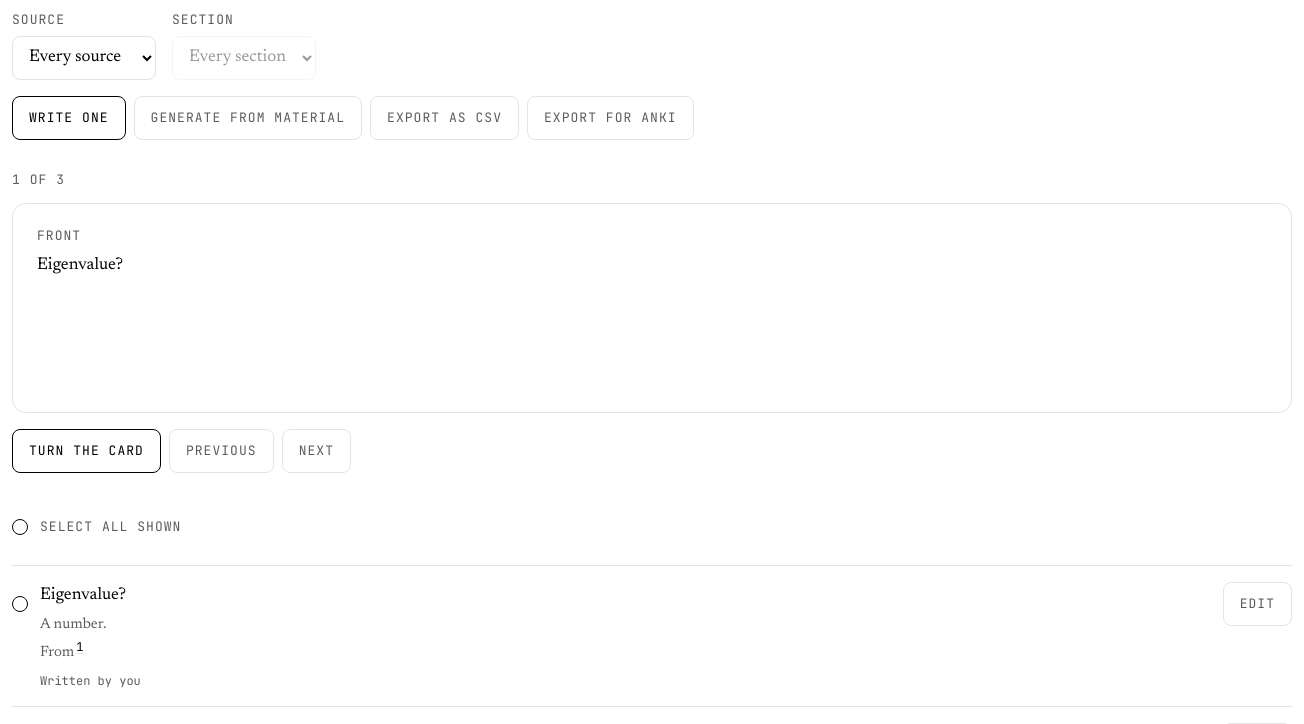
Test case: a selection outlives a filter change › selects every row the filter is showing at once
This screenshot has width=1304, height=724.
Select "Lecture notes" in the dropdown labelled "Source". click: (84, 58)
box: [12, 36, 156, 80]
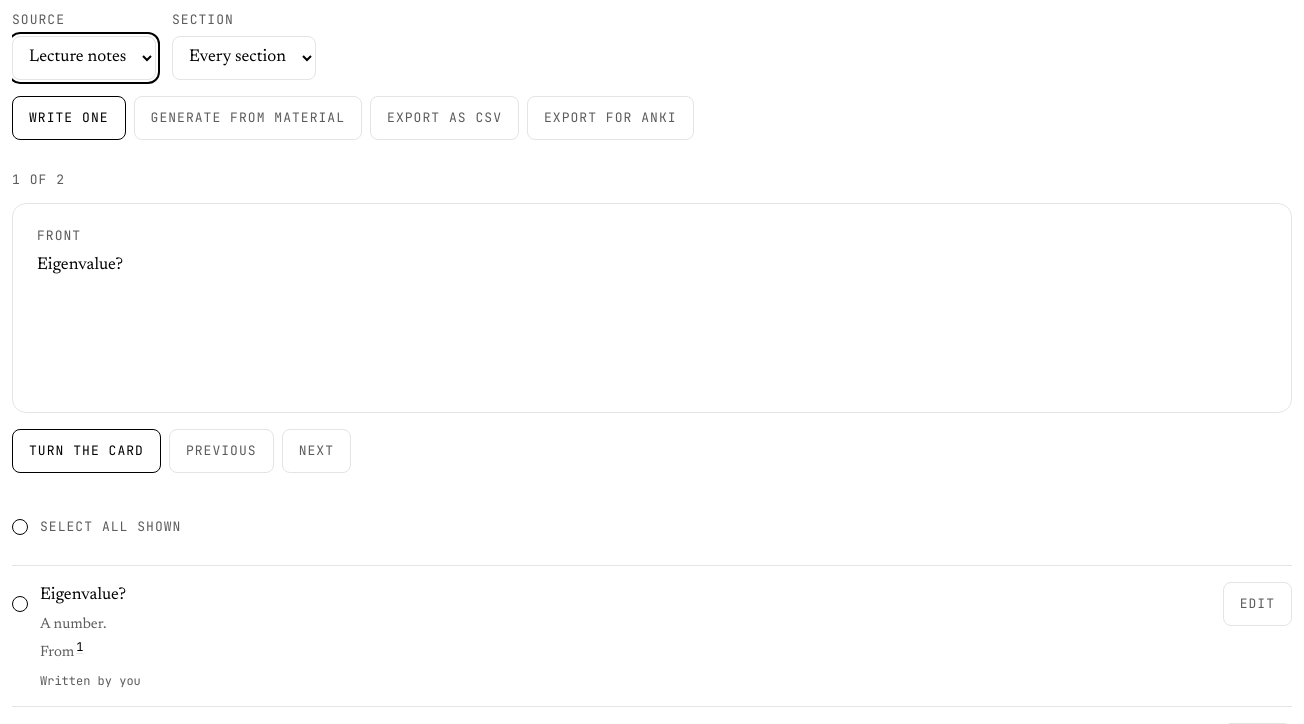
Click the checkbox labelled "Select all shown". click: (20, 527)
box: [12, 519, 28, 535]
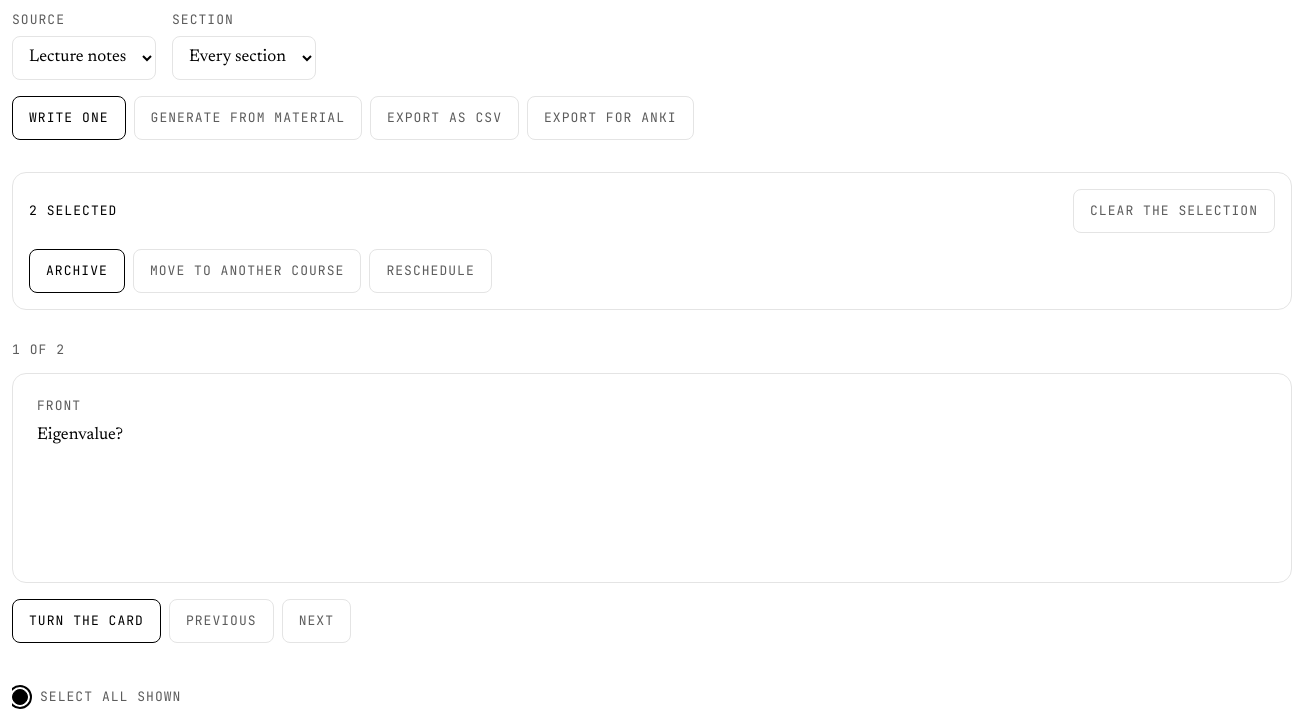
Check: the text "2 selected" is shown, box [29, 203, 117, 218]
